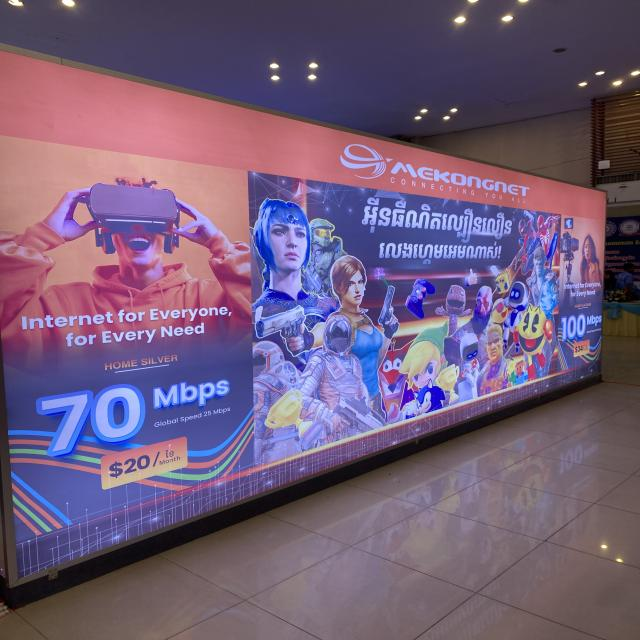134: (105, 450, 162, 482)
147: (574, 345, 585, 354)
534: (555, 311, 587, 344)
678: (204, 409, 214, 420)
826: (30, 379, 153, 464)
Yolov11_80vkh: (355, 193, 523, 245), (370, 239, 509, 265), (163, 448, 175, 460)
